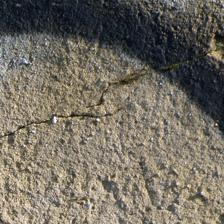Crack: (28, 84, 100, 140), (106, 104, 144, 171)
